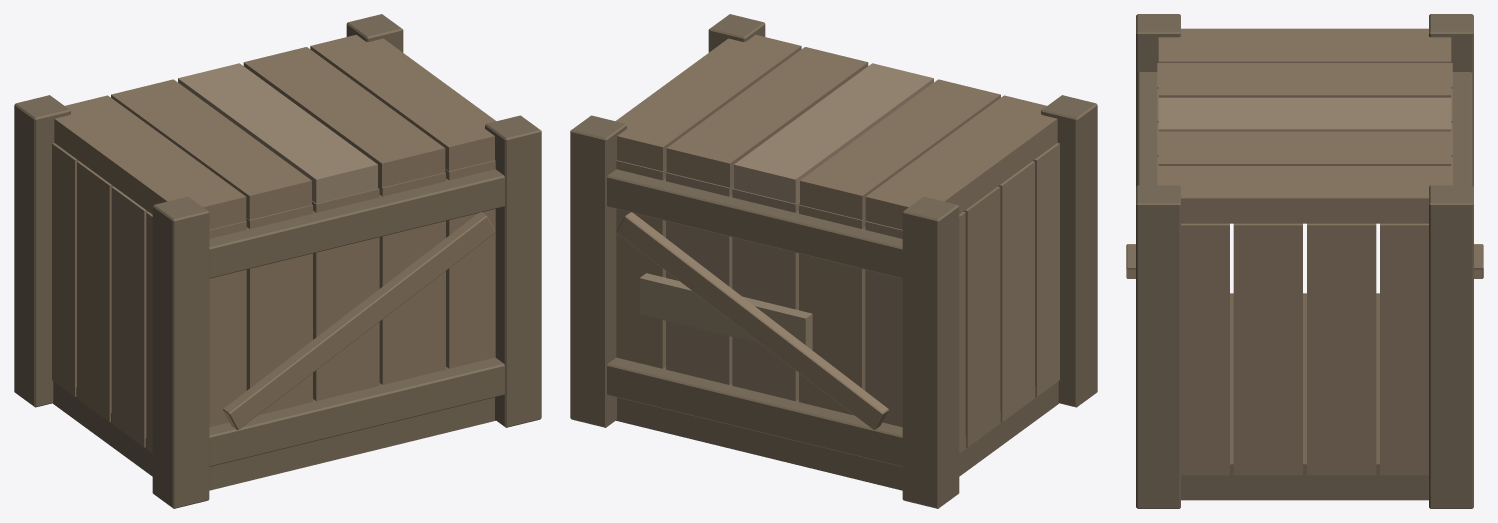
Rendered from env_crate_v02_single_brace.glb.
3 views of the same model, side by side, from view 1: azimuth 30°, elevation 25°; view 2: azimuth 150°, elevation 25°; view 3: azimuth 270°, elevation 25° (orthographic). The views are drawn at different scales.
Visible parts, largest first — view 1: material_0, material_2, material_1, material_5; view 2: material_2, material_0, material_5, material_1, material_6; view 3: material_0, material_2, material_1.
Boxes of the visible parts, x1,y1,x2,y2 form: material_0: (52,34,496,466); material_2: (14,14,541,508); material_1: (178,63,377,203); material_5: (111,186,152,453); material_2: (570,14,1097,508); material_0: (615,34,1057,457); material_5: (666,143,1059,466); material_1: (734,63,933,203); material_6: (639,273,812,349); material_0: (1126,28,1483,475); material_2: (1136,14,1473,508); material_1: (1158,97,1451,131).
Size of the model in its own units: 0.8 by 0.6 by 0.635.
